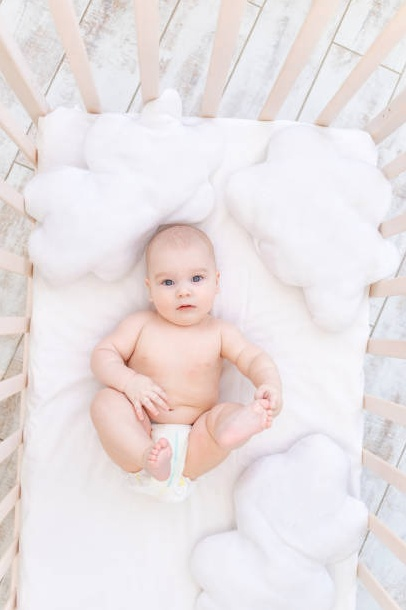baby: (91, 225, 281, 491)
crib: (0, 0, 405, 609)
